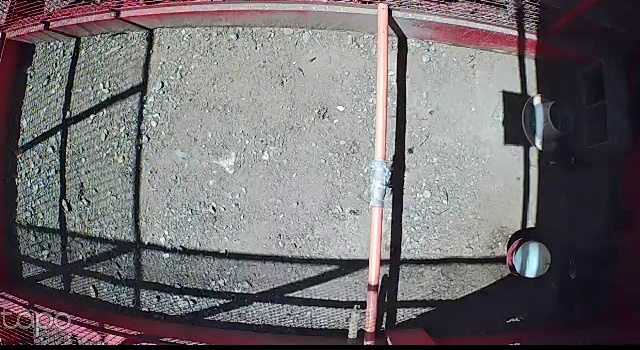Drinker: (505, 236, 554, 280)
Feeder: (520, 92, 576, 157)
